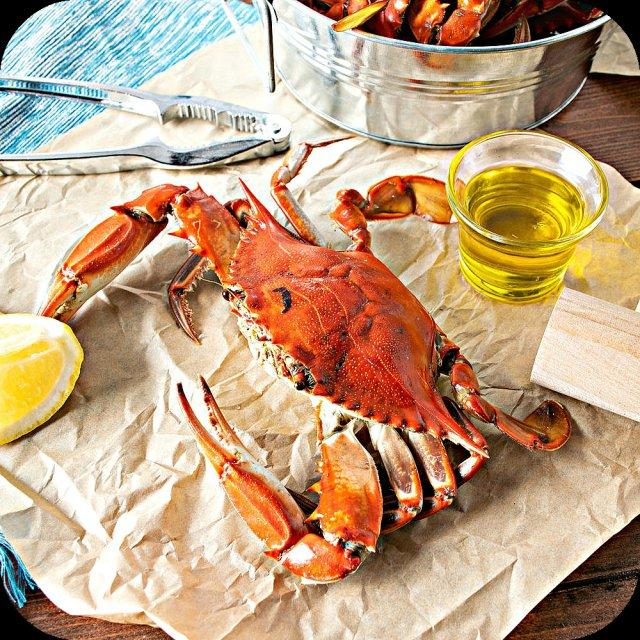cow: (167, 207, 463, 514)
